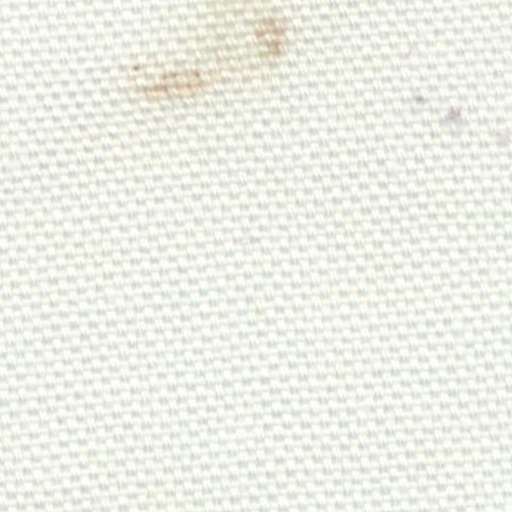WuZi: (116, 7, 308, 112), (402, 68, 497, 154)
